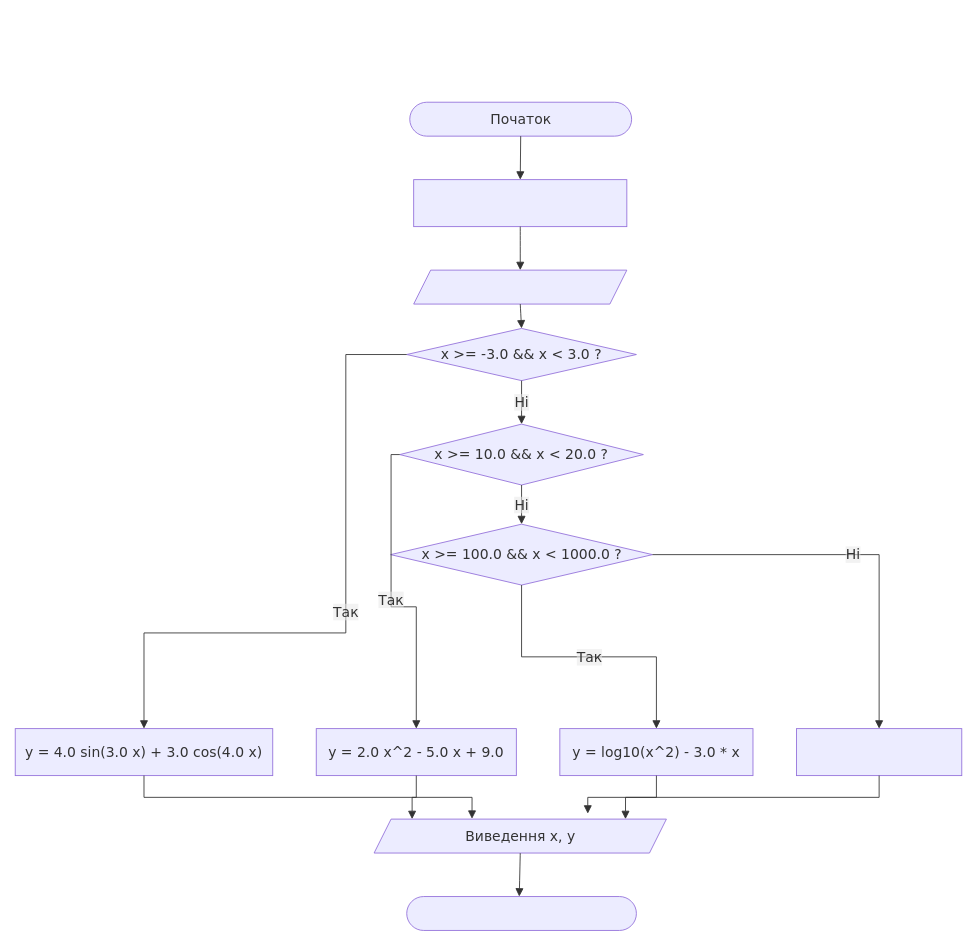
Some shapes in this 977 by 946 pixel diagram are drawn without their labels. Here are the shapes that lost their labels. From the top down, the centre of each, then its label:
At point 520,203: "Оголошення змінних x, y".
At point 520,286: "Введення x".
At point 879,752: "y = -x / 10.0 + 1.0".
At point 521,913: "Кінець".
